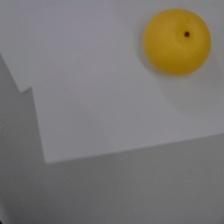yellow: (144, 8, 210, 76)
